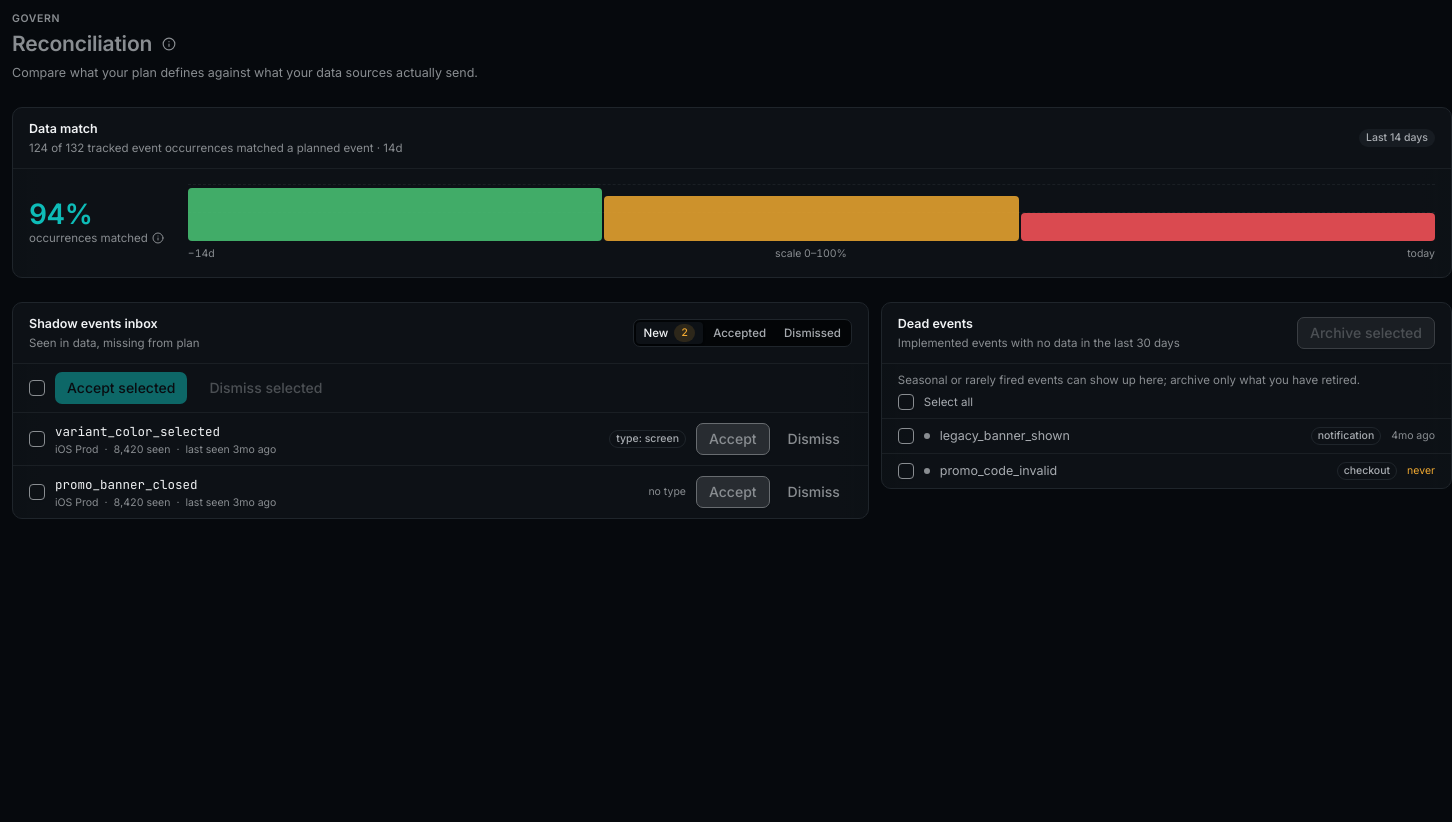
Scenario: ReconciliationPage › dismisses selected shadow events in bulk, in one request
This screenshot has width=1452, height=822.
Click the checkbox named "Select all new shadow events" at (37, 388), box [29,380,45,396]
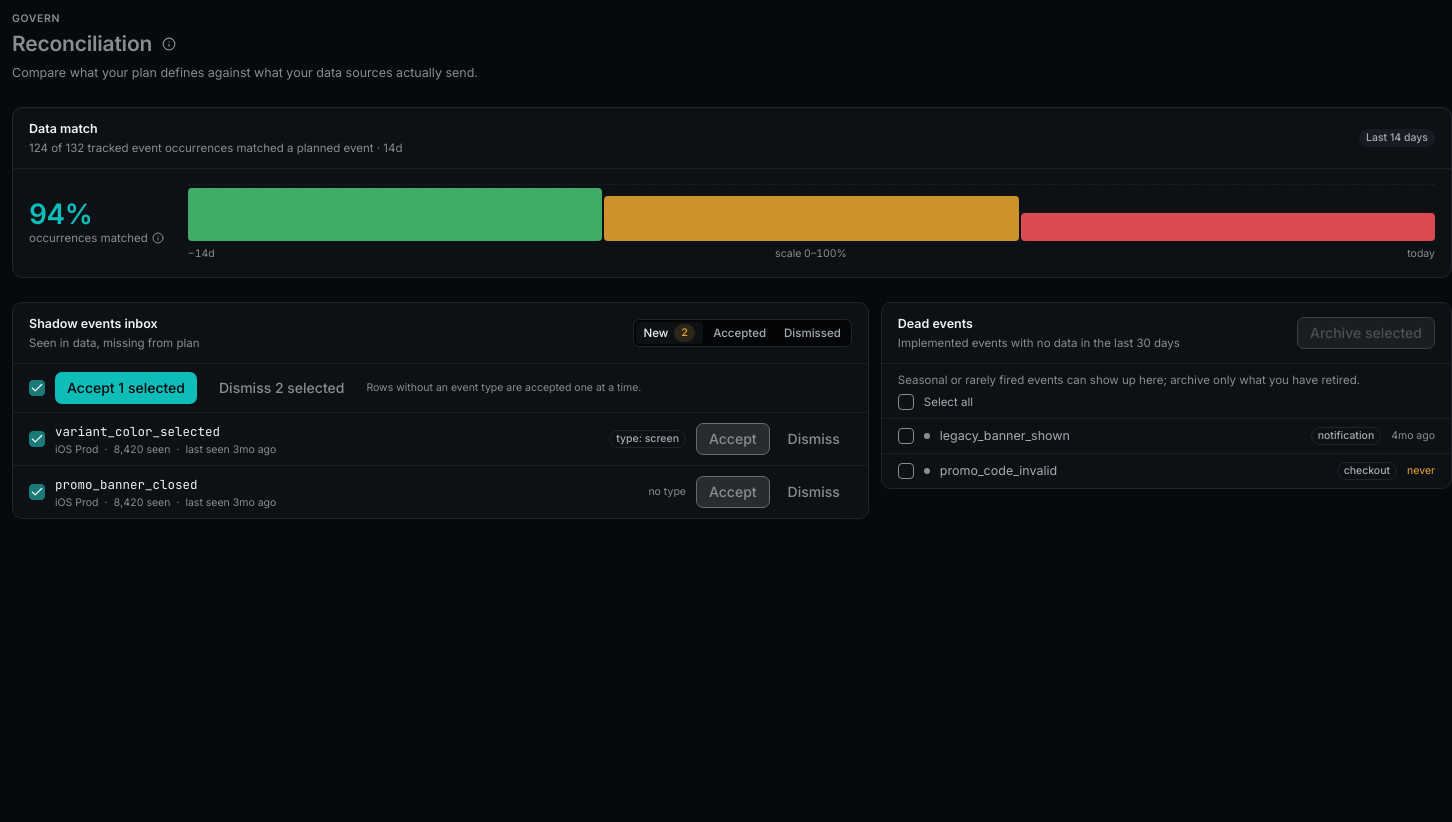
Expected: the button "Accept 1 selected" is enabled, [55,372,197,404]
Expected: the text "Rows without an event type are accepted one at a time." is shown, [366,381,641,395]
Click the button "Dismiss 2 selected" at (282, 388), box [207,372,356,404]
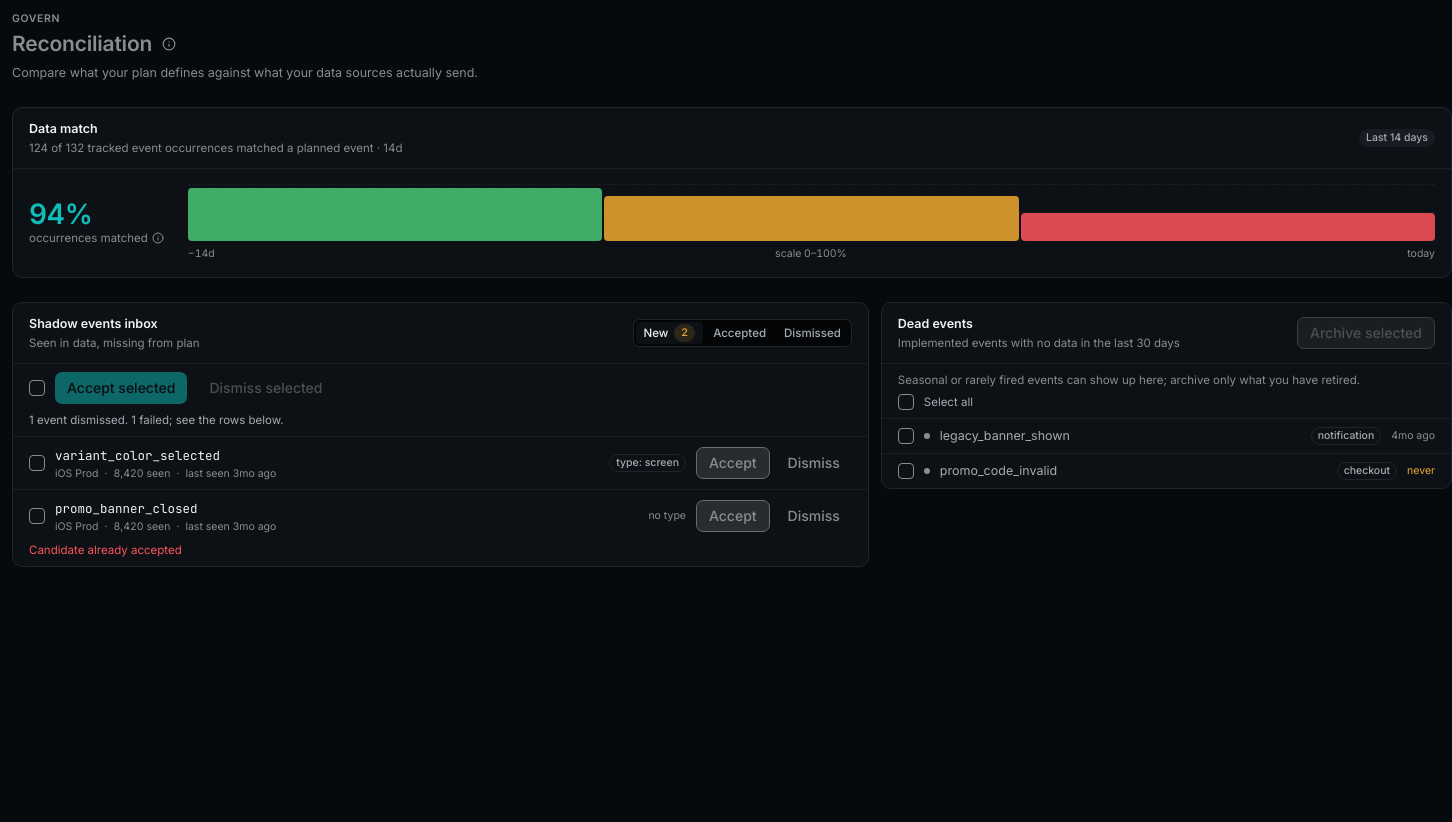
Expected: the text "1 event dismissed. 1 failed; see the rows below." is shown, [29,413,284,427]
Expected: the text "Candidate already accepted" is shown, [29,543,182,557]
